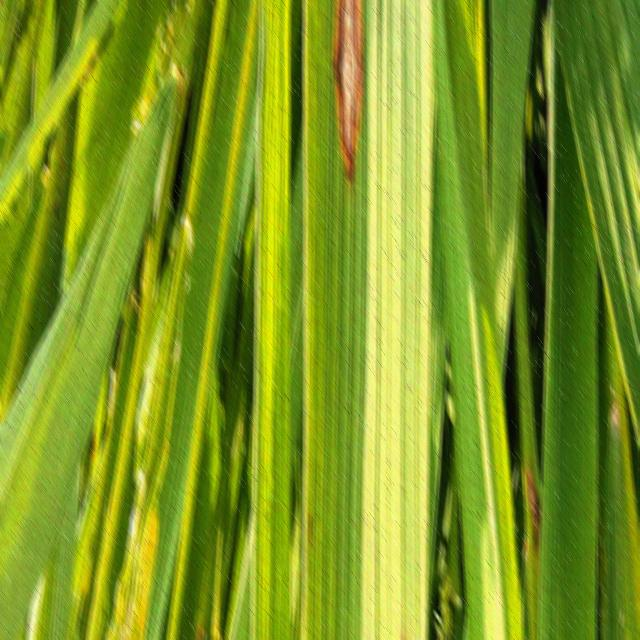LEAF BLAST: (333, 0, 363, 184)
